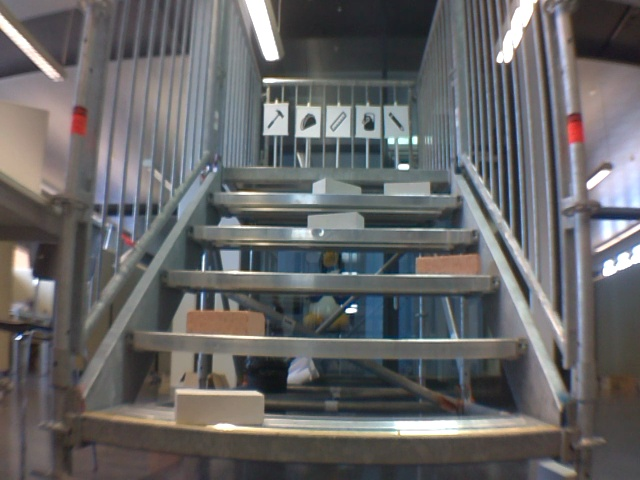brick: (173, 389, 264, 424), (186, 312, 264, 335), (417, 253, 477, 273), (308, 211, 364, 229), (313, 178, 360, 194), (384, 181, 429, 194)
bucket: (358, 110, 378, 134)
edge: (83, 417, 562, 463), (126, 331, 529, 359), (161, 271, 499, 290), (188, 226, 481, 242), (208, 192, 463, 207), (220, 167, 448, 178)
hammer: (267, 107, 286, 132)
pencil: (385, 110, 405, 134)
ruler: (327, 108, 348, 133)
stairs: (48, 2, 600, 474)
steps: (77, 164, 566, 467)
taco: (298, 110, 316, 133)
